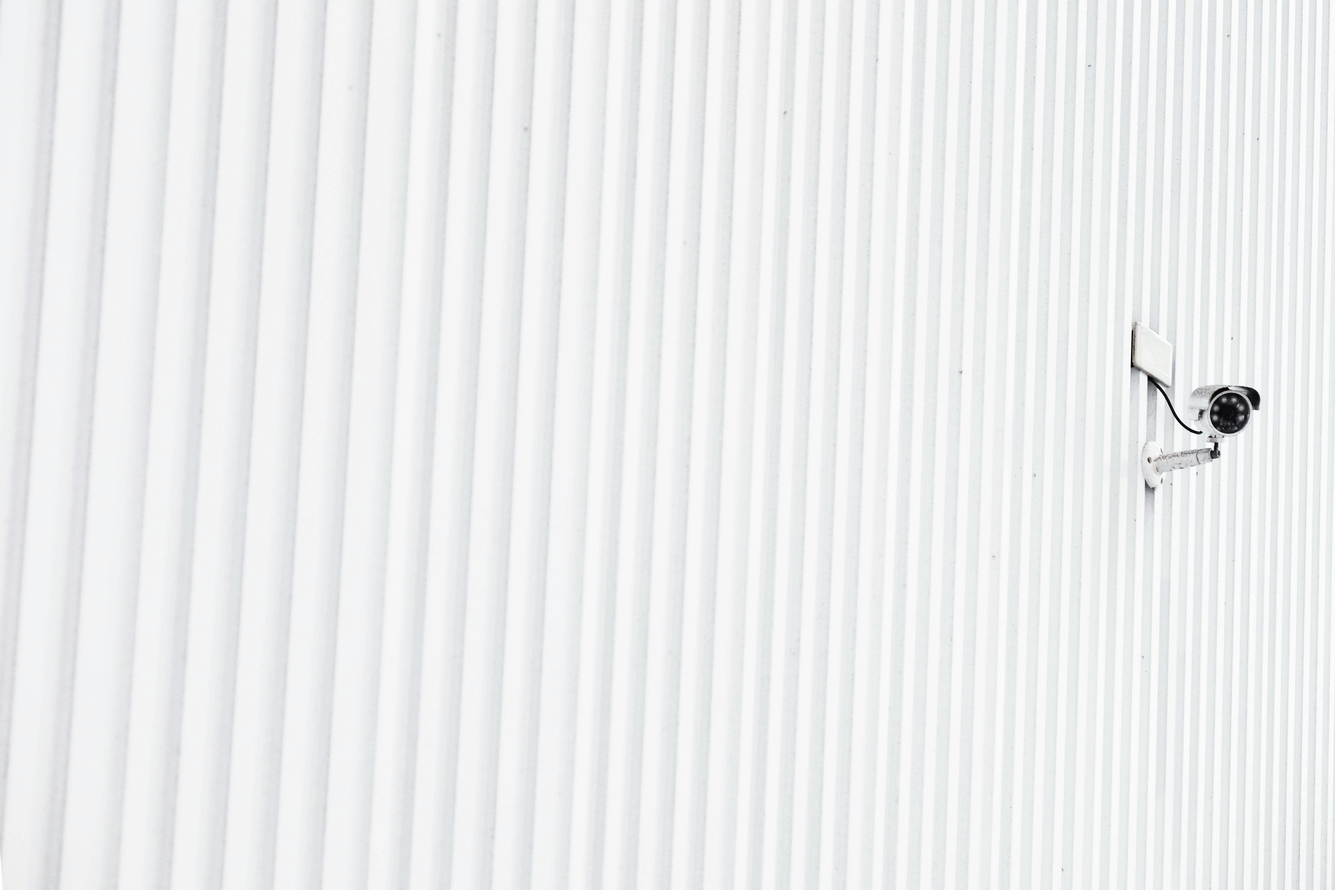camera: (1162, 335, 1295, 494)
